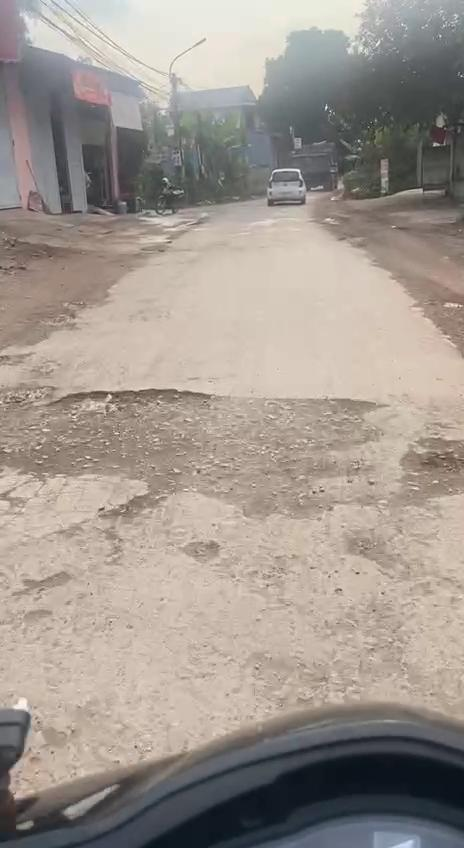pothole: (1, 381, 206, 497), (210, 398, 381, 518), (393, 438, 464, 501), (103, 491, 156, 528)
